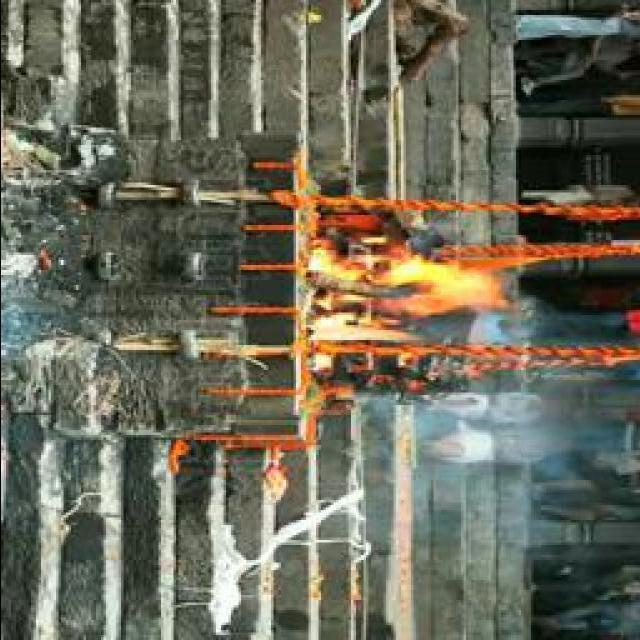Fire: (303, 242, 506, 368)
